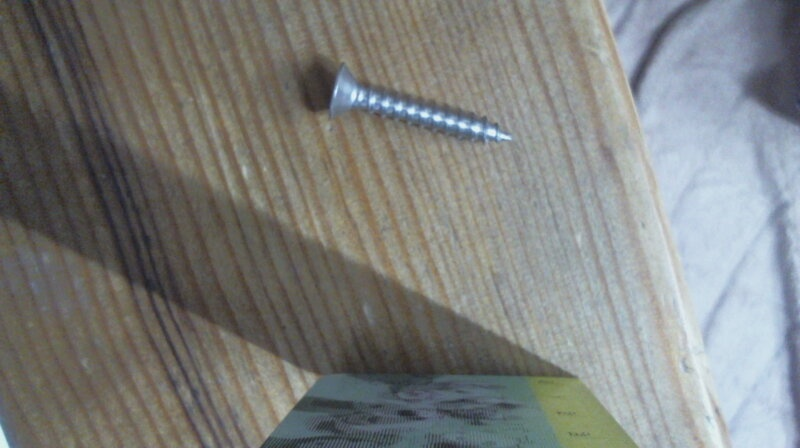S001: (323, 57, 520, 151)
